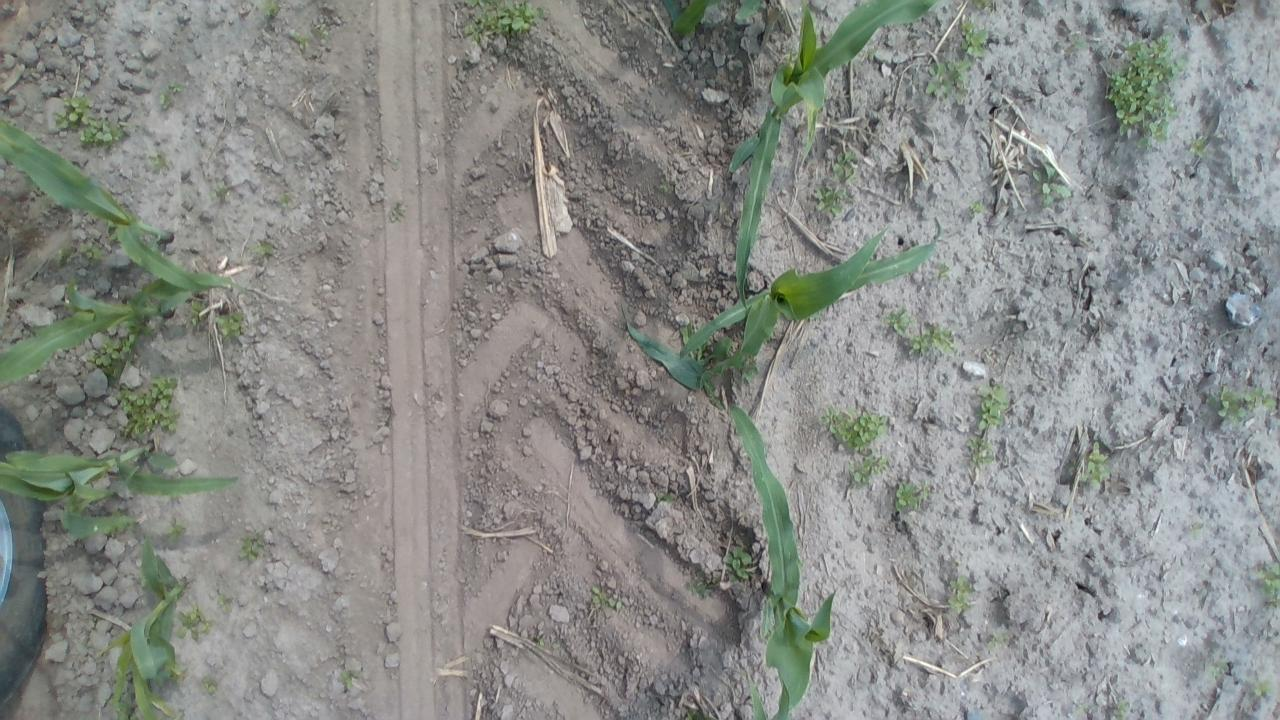Maize: (724, 1, 940, 312), (0, 122, 227, 296), (676, 226, 939, 373), (726, 404, 840, 720), (2, 271, 278, 394), (0, 440, 242, 541), (104, 521, 191, 720)
Weeds: (1104, 31, 1184, 151), (114, 374, 181, 437), (60, 95, 131, 148), (458, 2, 542, 46), (819, 402, 890, 454), (86, 324, 146, 376), (1212, 386, 1280, 424), (896, 320, 958, 356), (926, 54, 971, 100), (1032, 160, 1073, 208), (1078, 440, 1114, 491), (976, 382, 1010, 432), (849, 453, 891, 490), (174, 604, 213, 642), (944, 572, 976, 616), (814, 182, 850, 220), (236, 529, 272, 564), (893, 479, 926, 514), (725, 546, 756, 582), (960, 20, 989, 58), (1256, 560, 1277, 610), (966, 436, 996, 470), (830, 149, 859, 182), (592, 584, 624, 613), (706, 332, 736, 360), (685, 574, 717, 600), (217, 312, 245, 341), (73, 238, 104, 264), (162, 518, 188, 543), (1187, 132, 1210, 160), (738, 354, 760, 383), (885, 308, 908, 334), (145, 150, 172, 172), (160, 660, 184, 684), (1248, 678, 1274, 700), (253, 236, 276, 260), (157, 88, 180, 110), (189, 300, 208, 326), (255, 0, 282, 18), (52, 244, 74, 266), (336, 669, 358, 691), (1207, 660, 1230, 681), (388, 200, 408, 224), (934, 262, 956, 283), (1064, 34, 1086, 55), (290, 31, 318, 47), (988, 630, 1008, 652), (212, 180, 234, 200), (1108, 700, 1130, 719), (534, 635, 556, 652), (679, 321, 697, 341), (276, 190, 296, 208), (656, 490, 678, 506), (200, 677, 218, 696), (968, 198, 985, 218), (218, 593, 235, 611), (682, 705, 702, 719), (1188, 521, 1205, 537), (658, 180, 673, 194), (974, 1, 996, 10)
